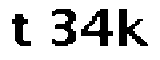3: (46, 5, 78, 50)
4: (80, 6, 115, 50)
k: (115, 7, 150, 49)
t: (8, 13, 34, 51)
